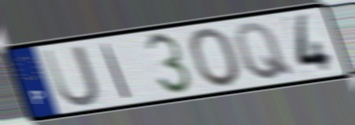3: (143, 31, 195, 97)
4: (294, 11, 336, 77)
I: (99, 42, 134, 100)
O: (186, 25, 245, 89)
Q: (231, 21, 297, 82)
U: (39, 43, 102, 110)
